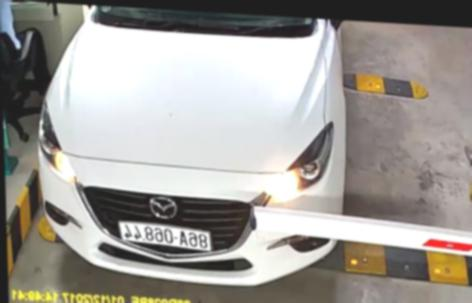License_Plate: (115, 217, 217, 253)
